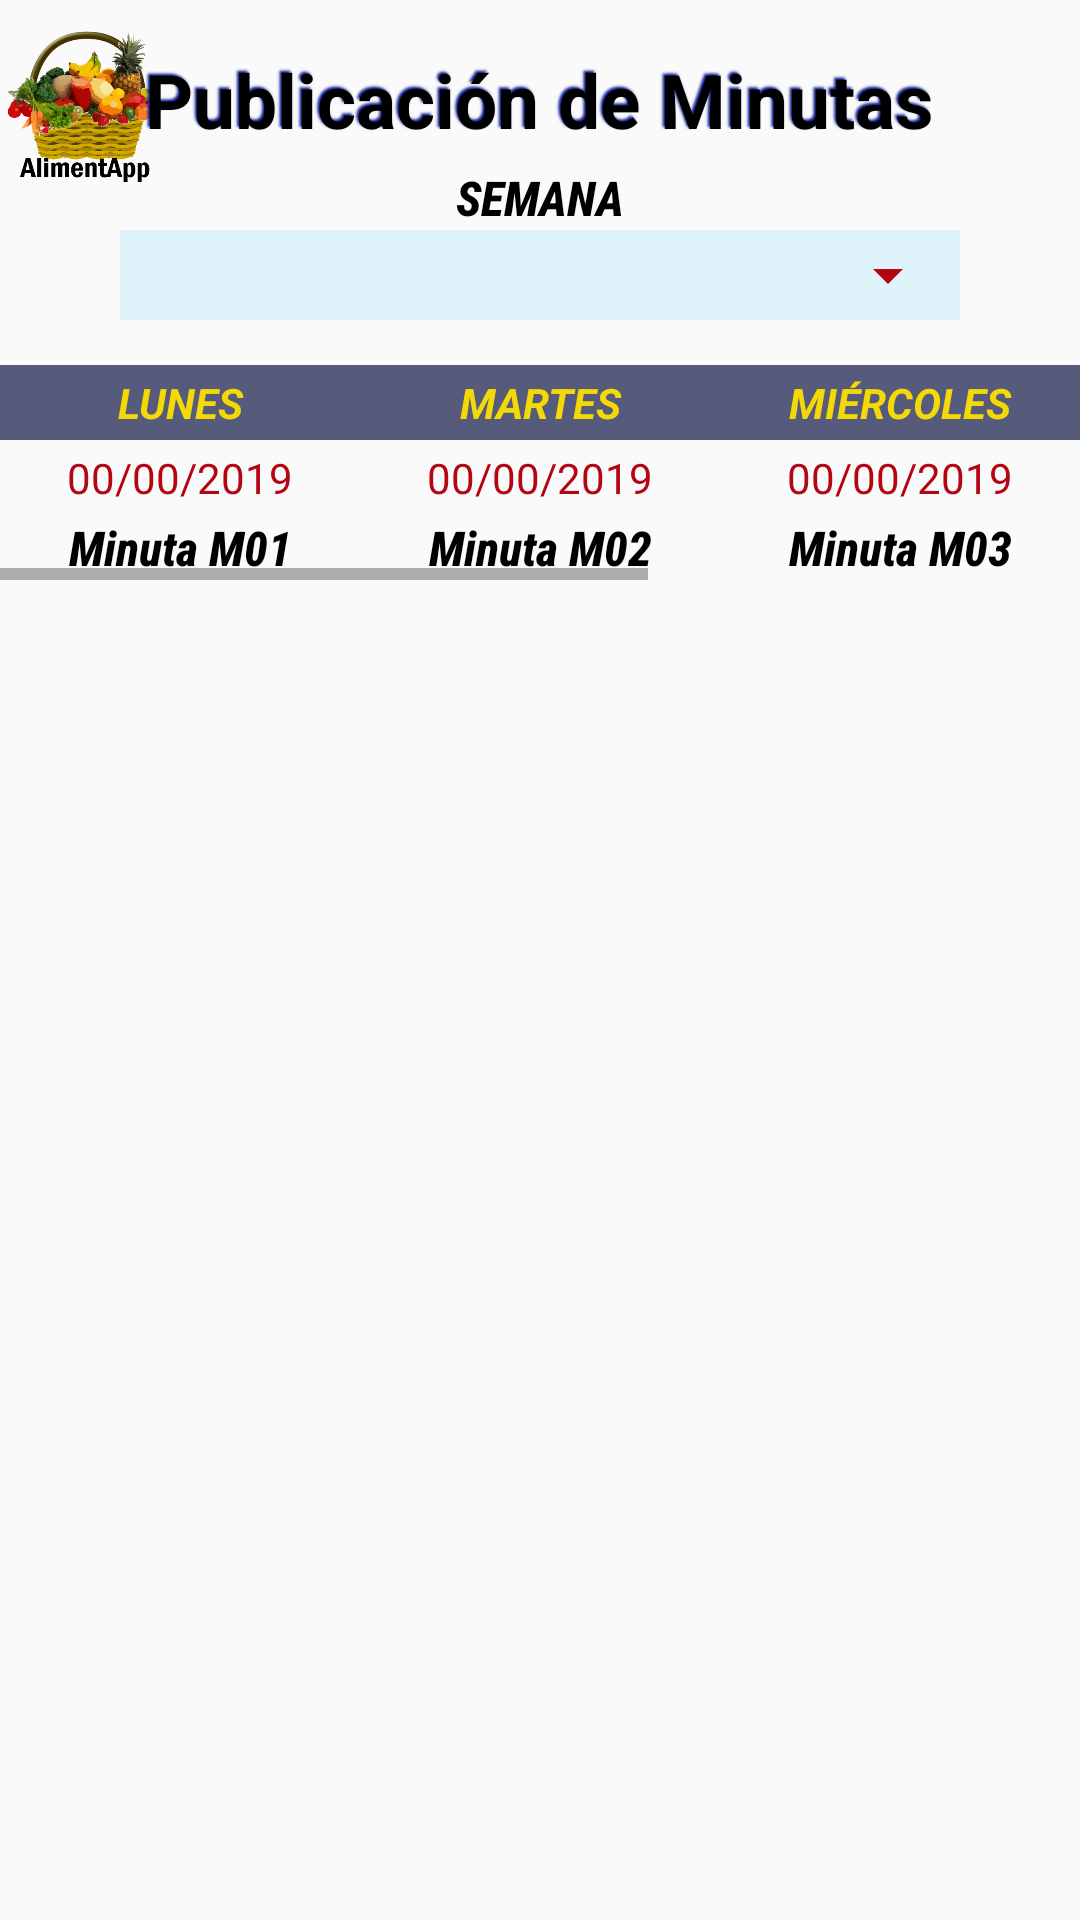

Icon click points for this 1080x1920 phone screenshot, format (x=x, y=y):
iconosuperior: (x=86, y=106)
